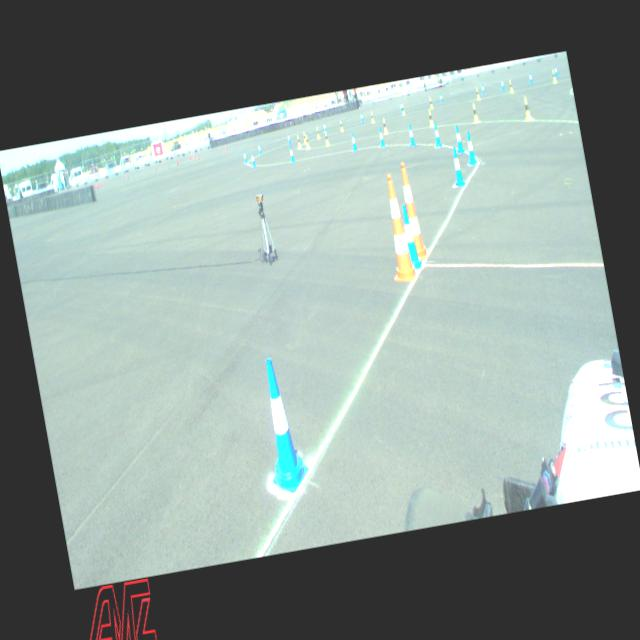blue_cone: (252, 356, 312, 494), (401, 203, 424, 270), (449, 145, 465, 186), (463, 132, 478, 164), (453, 124, 464, 152), (432, 122, 441, 146), (406, 122, 415, 146), (349, 132, 356, 150), (378, 126, 384, 146), (288, 144, 294, 162), (250, 152, 255, 166), (322, 122, 327, 132), (243, 150, 247, 162), (480, 82, 484, 94), (359, 112, 364, 121), (528, 72, 532, 83), (500, 79, 504, 90), (258, 143, 262, 154), (286, 132, 290, 142), (554, 66, 558, 76), (398, 102, 402, 112), (438, 92, 442, 101)
large_orange_cone: (376, 171, 419, 282), (398, 160, 429, 260)
unknown_cone: (100, 180, 102, 187), (96, 182, 98, 188), (218, 146, 220, 152)
yellow_cone: (522, 97, 532, 121), (426, 108, 434, 126), (472, 102, 478, 122), (382, 118, 388, 134), (304, 134, 310, 148), (508, 80, 514, 92), (324, 131, 329, 145), (551, 68, 556, 82), (475, 87, 480, 99), (296, 134, 300, 148), (400, 104, 405, 115), (302, 130, 306, 142), (339, 120, 343, 131), (428, 97, 432, 108), (370, 111, 374, 122), (316, 127, 320, 138)
